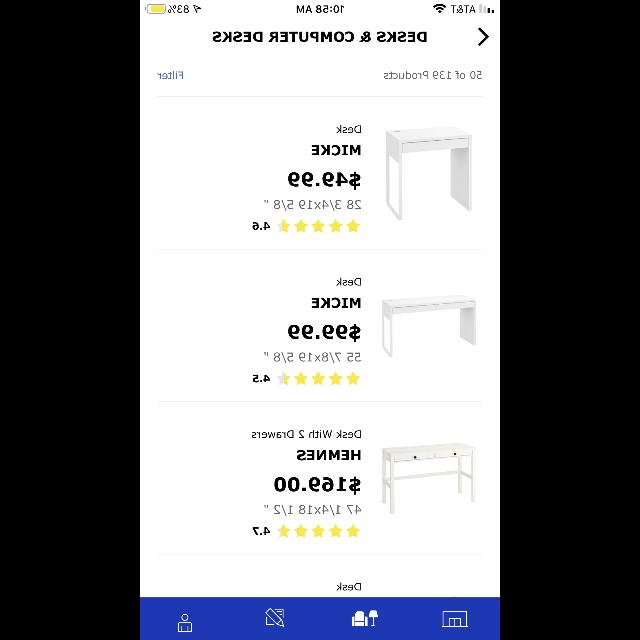icon: (276, 219, 360, 233), (276, 371, 360, 385), (276, 524, 360, 538), (266, 608, 284, 626), (178, 614, 192, 632), (478, 28, 488, 46)
image: (386, 126, 472, 220), (382, 442, 476, 514), (382, 294, 476, 358), (352, 610, 378, 626), (442, 611, 468, 627)
text: (213, 32, 427, 42), (274, 477, 360, 495), (288, 324, 360, 342), (288, 172, 360, 190), (264, 504, 362, 516), (264, 200, 360, 212), (264, 352, 360, 363), (252, 430, 361, 438), (384, 71, 481, 79), (297, 450, 361, 460), (312, 144, 361, 156), (312, 298, 361, 308), (157, 72, 183, 80), (337, 583, 361, 591), (336, 278, 360, 286), (336, 125, 360, 133), (252, 527, 270, 535), (252, 375, 270, 383), (252, 222, 270, 230)
uppertaskbar: (140, 0, 500, 14)
